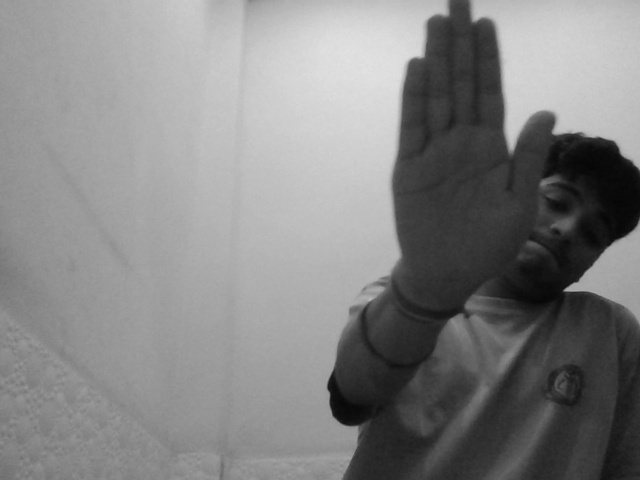Sorry: (384, 2, 562, 296)
